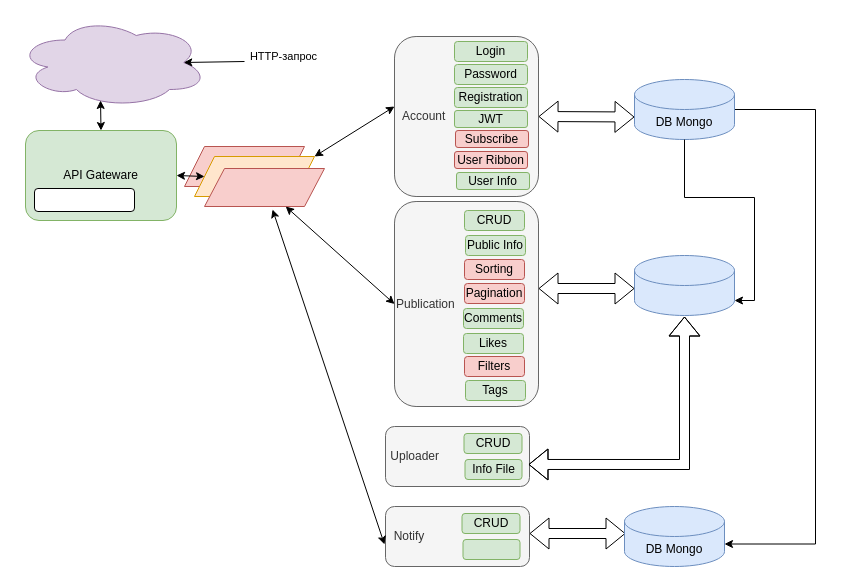
Some shapes in this 841 by 584 pixel diagram are drawn without their labels. The centre of each missing label's shape, as x and y in pixels:
"Autorization" belongs at (84,200).
"Backend-for-Frontend BFF" belongs at (112,62).
"DB Postgre SQL" belongs at (684,285).
"e-mail" belongs at (491,549).
"Rabbit MQ" belongs at (264,187).
